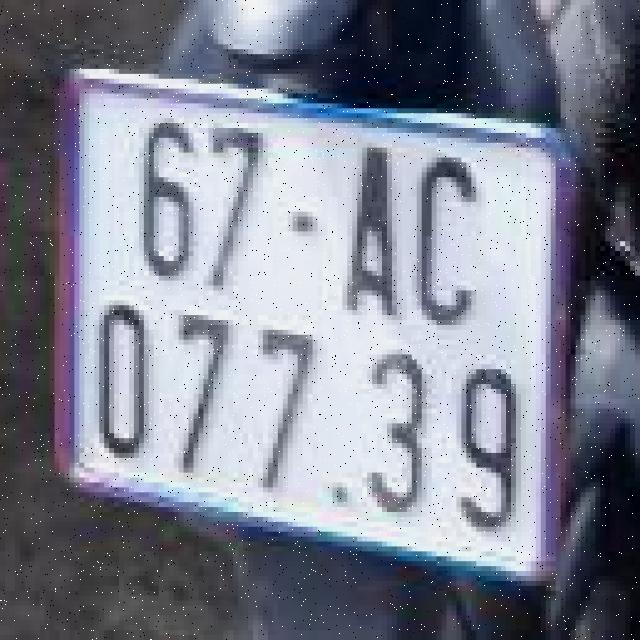0: (92, 298, 151, 465)
3: (355, 342, 434, 529)
6: (136, 113, 201, 286)
7: (166, 303, 236, 475), (256, 315, 320, 497), (211, 116, 270, 293)
9: (451, 357, 526, 544)
A: (337, 136, 407, 322)
C: (412, 138, 481, 330)
